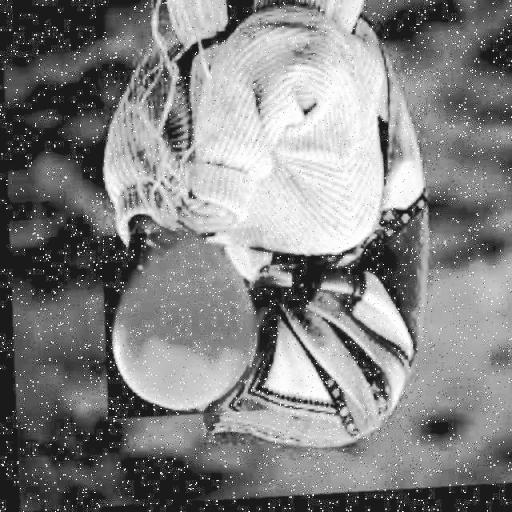balloon: (110, 232, 255, 411)
